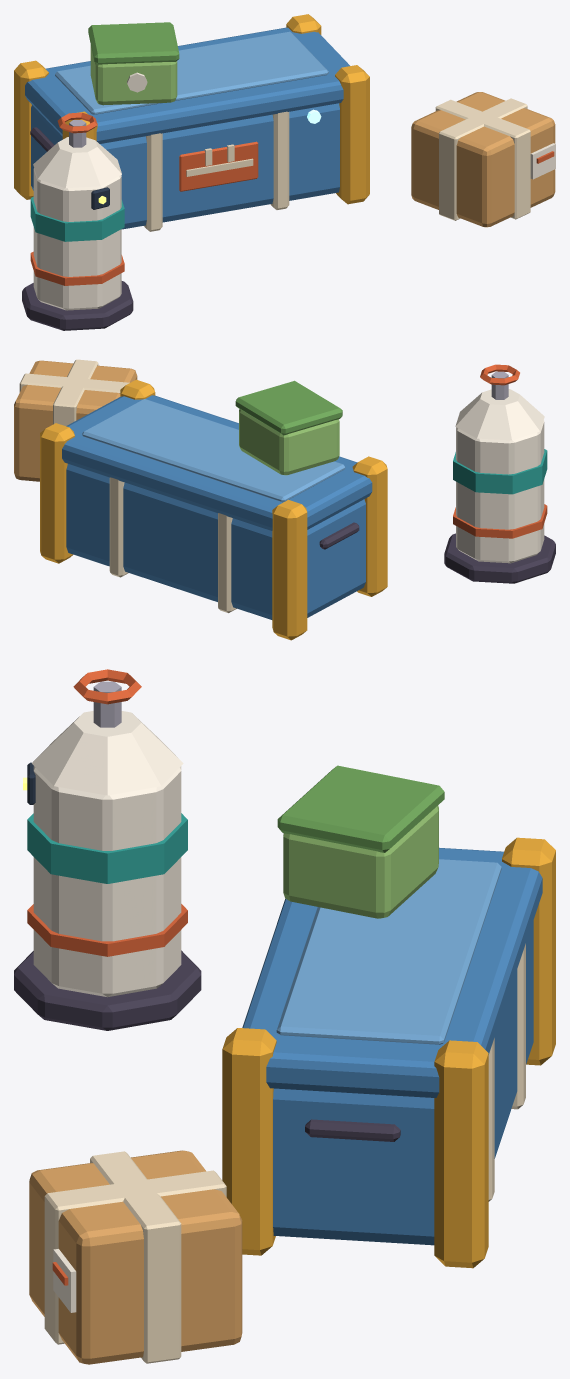
File: MOONSHIFT_02_Cargo_Set.glb
3 views of the same model, one above another, from view 1: azimuth 30°, elevation 25°; view 2: azimuth 150°, elevation 25°; view 3: azimuth 270°, elevation 25° (orthographic). The views are drawn at different scales.
Visible parts, largest first — view 1: CrateLong_Body, CrateLong_Lid, Package_Body, CrateLong_LidTop, Canister_Body, CrateLong_Corner10, Food_Lid, Food_Body, Canister_Top, Canister_Base, Package_TapeX, Package_TapeY (+10 smaller); view 2: CrateLong_Body, CrateLong_Lid, CrateLong_LidTop, Canister_Body, Package_Body, CrateLong_Corner01, Food_Body, CrateLong_Corner11, Food_Lid, Canister_Top, CrateLong_Corner00, Canister_Base (+10 smaller); view 3: Package_Body, CrateLong_Body, CrateLong_LidTop, CrateLong_Lid, Canister_Body, CrateLong_Corner11, Food_Body, CrateLong_Corner10, Food_Lid, Canister_Top, Package_TapeX, Canister_Base (+10 smaller).
Part boxes in pixels (x1,y1,x2,y2): CrateLong_Body: (31,103,339,229); CrateLong_Lid: (25,27,349,143); Package_Body: (411,92,555,227); CrateLong_LidTop: (55,31,328,114); Canister_Body: (33,168,121,310); CrateLong_Corner10: (335,65,369,204); Food_Lid: (88,22,179,64); Food_Body: (90,45,177,105); Canister_Top: (33,137,121,188); Canister_Base: (22,281,133,330); Package_TapeX: (439,98,527,220); Package_TapeY: (435,99,530,219); CrateLong_Body: (66,464,365,619); CrateLong_Lid: (62,395,372,530); CrateLong_LidTop: (82,399,345,502); Canister_Body: (456,420,544,563); Package_Body: (14,360,137,481); CrateLong_Corner01: (272,500,307,640); Food_Body: (239,409,339,475); CrateLong_Corner11: (40,423,74,563); Food_Lid: (235,380,342,435); Canister_Top: (455,389,544,440); CrateLong_Corner00: (352,456,387,596); Canister_Base: (444,533,555,583); Package_Body: (29,1150,242,1364); CrateLong_Body: (273,920,533,1245); CrateLong_LidTop: (276,859,501,1044); CrateLong_Lid: (242,847,542,1097); Canister_Body: (33,766,181,997); CrateLong_Corner11: (434,1040,488,1268); Food_Body: (283,805,438,918); CrateLong_Corner10: (222,1028,276,1255); Food_Lid: (277,765,444,852); Canister_Top: (32,711,183,795); Package_TapeX: (90,1151,181,1363); Canister_Base: (14,950,201,1030).
Bounding box in the file's own units: 3.51 × 1.22 × 1.92.
